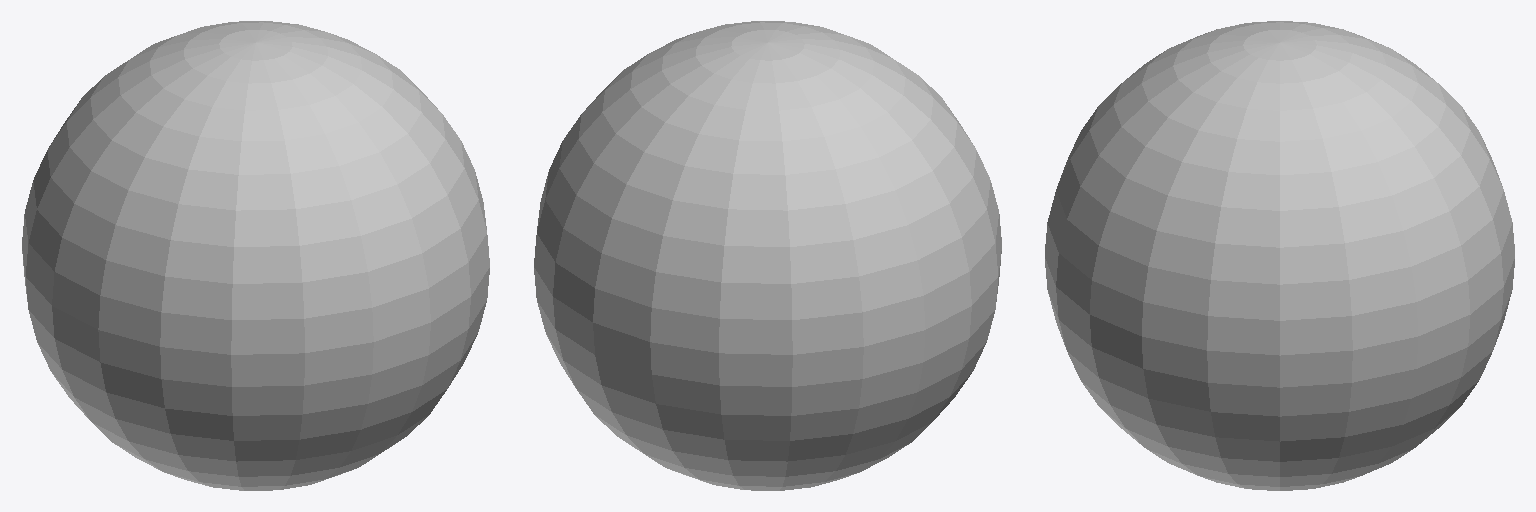
The model's file is golfball.obj.
3 renders of one model, left to right at view 1: azimuth 30°, elevation 25°; view 2: azimuth 150°, elevation 25°; view 3: azimuth 270°, elevation 25°, orthographic.
Parts seen in each view (by area): view 1: TurtleDefaultBakeLayer pSphere1; view 2: TurtleDefaultBakeLayer pSphere1; view 3: TurtleDefaultBakeLayer pSphere1.
Part boxes in pixels (bbox=[...]): TurtleDefaultBakeLayer pSphere1: bbox=[22, 21, 489, 490]; TurtleDefaultBakeLayer pSphere1: bbox=[534, 21, 1001, 490]; TurtleDefaultBakeLayer pSphere1: bbox=[1045, 21, 1514, 490].
Bounding box in the file's own units: 4.2 × 4.2 × 4.2.